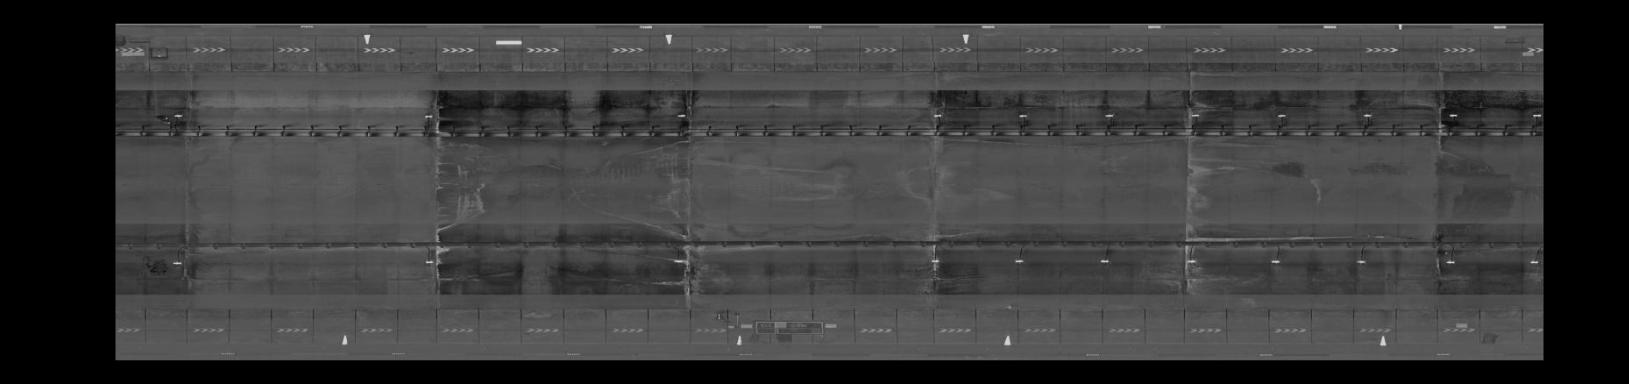light: (1355, 110, 1376, 120), (1351, 256, 1369, 268), (1010, 255, 1029, 267), (1016, 108, 1032, 120), (418, 257, 438, 267), (925, 256, 946, 265), (1271, 111, 1289, 120), (1185, 111, 1204, 120), (666, 256, 687, 265), (928, 111, 945, 120), (170, 110, 186, 120), (1444, 111, 1461, 120), (1439, 258, 1458, 267), (1100, 111, 1117, 120), (421, 112, 437, 121), (168, 259, 184, 269), (1525, 256, 1539, 267), (673, 110, 687, 120), (1182, 257, 1199, 266), (1097, 256, 1113, 265), (1530, 110, 1542, 120), (1267, 258, 1284, 265)
